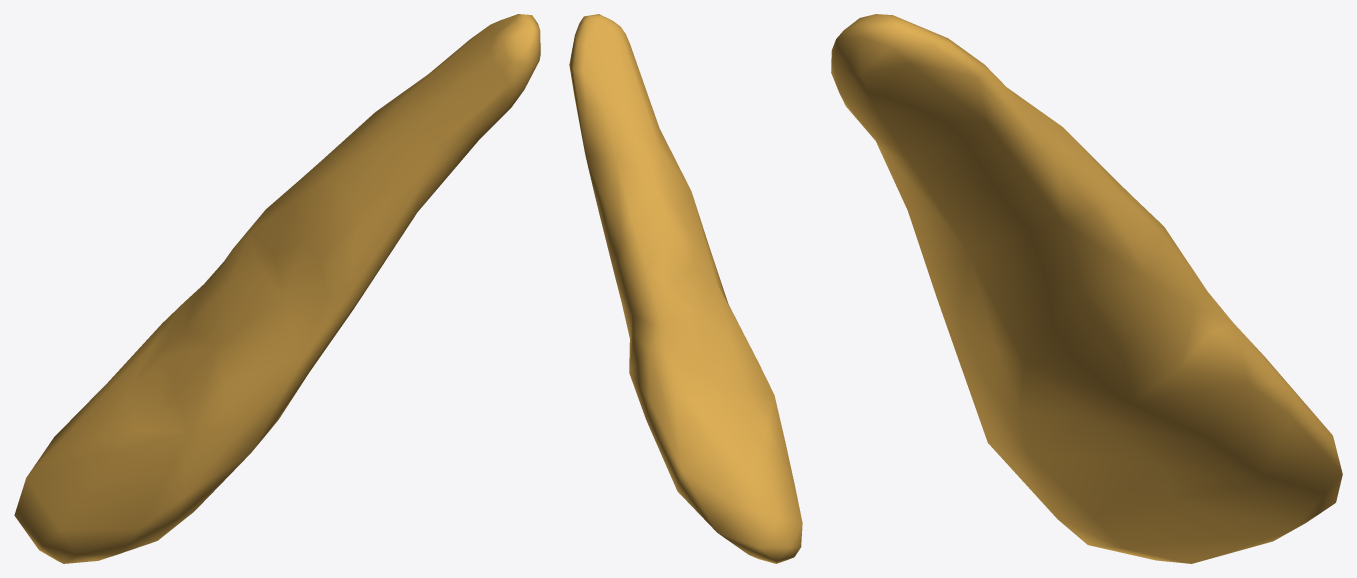
The picture shows the model from 3 angles, left to right: view 1: azimuth 30°, elevation 25°; view 2: azimuth 150°, elevation 25°; view 3: azimuth 270°, elevation 25°; orthographic projection. The views are drawn at different scales.
Parts seen in each view (by area): view 1: 左侧舌下腺; view 2: 左侧舌下腺; view 3: 左侧舌下腺.
Part boxes in pixels (x1,y1,x2,y2): 左侧舌下腺: (14, 14, 540, 563); 左侧舌下腺: (569, 14, 802, 563); 左侧舌下腺: (831, 14, 1342, 563).
Bounding box in the file's own units: 0.0243 × 0.0312 × 0.0182.
